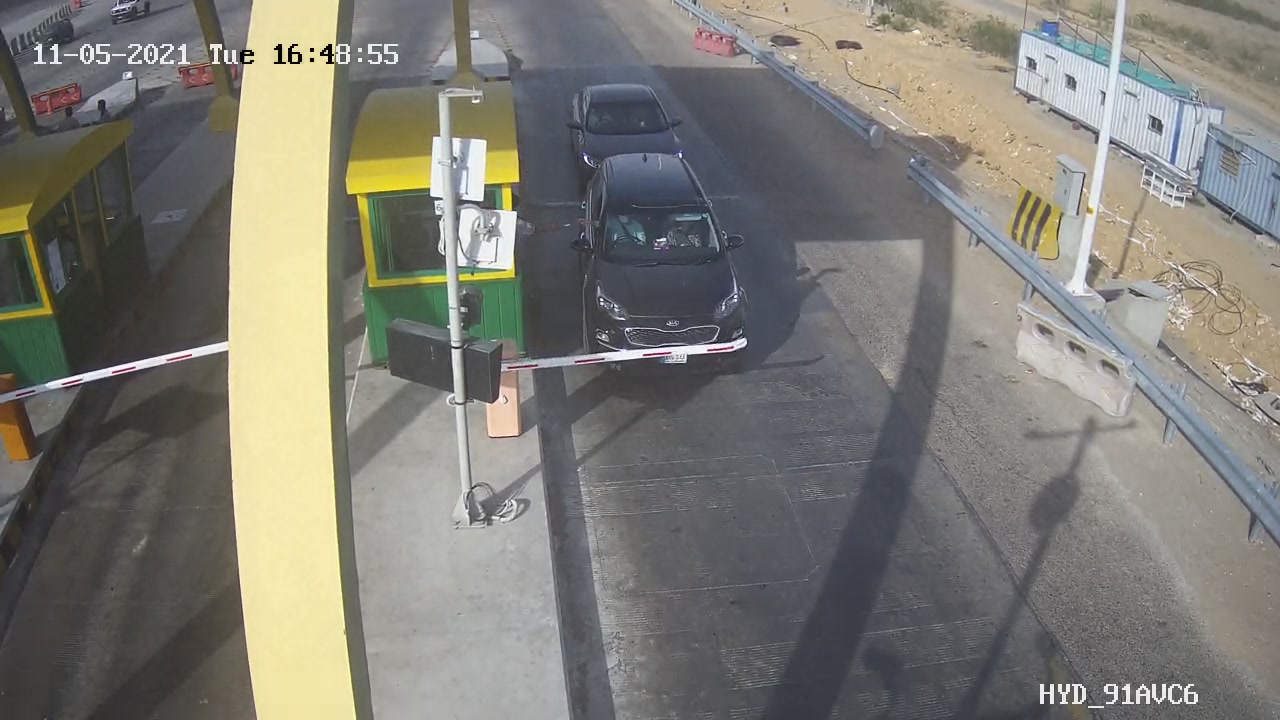F1: (553, 146, 773, 392)
